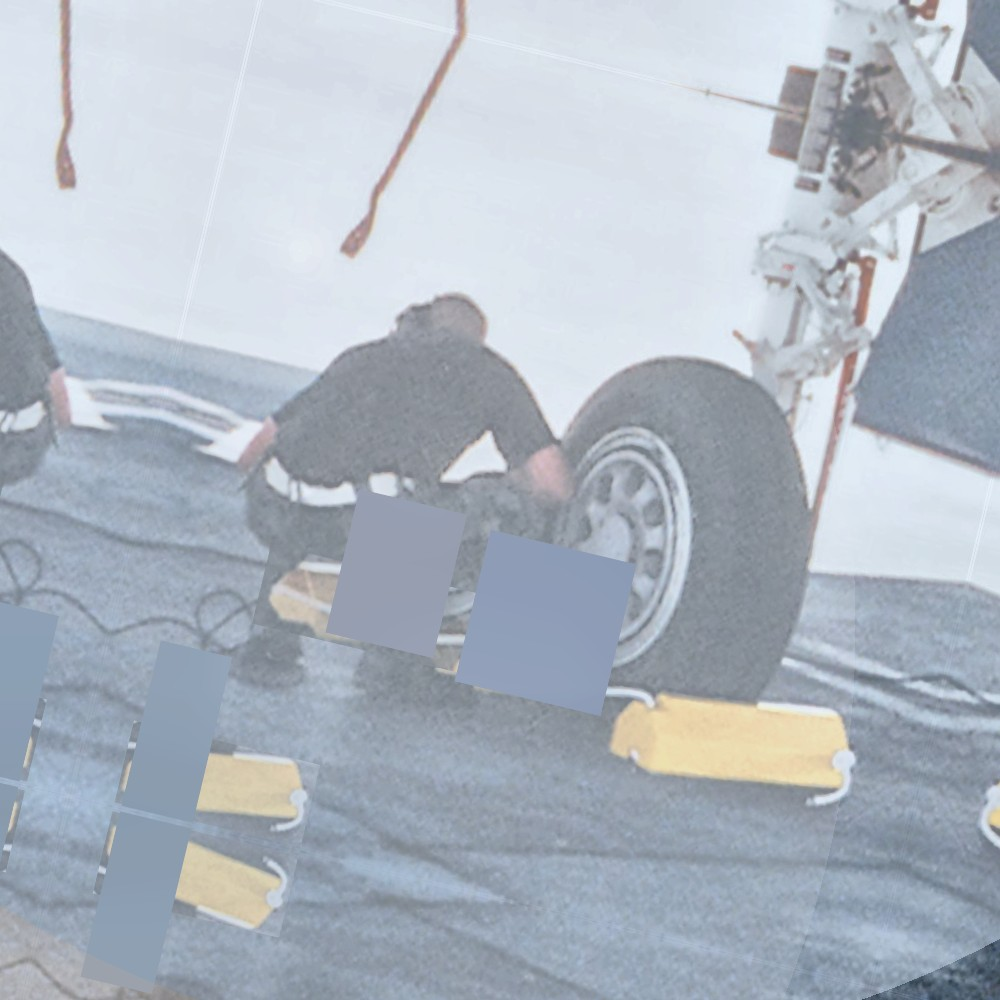chock: (600, 659, 873, 827), (409, 595, 638, 726), (252, 544, 476, 673), (115, 721, 320, 847), (93, 812, 298, 938)
wheel: (495, 329, 849, 738)
